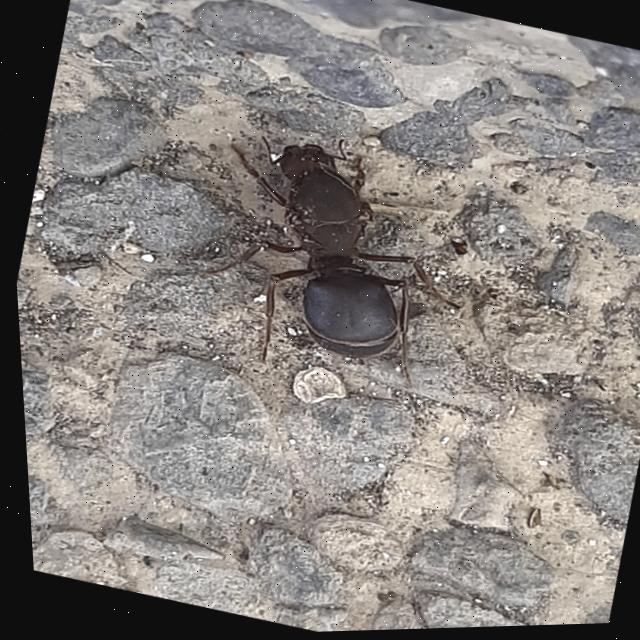Alive-Female-Dealate: (177, 111, 495, 408)
